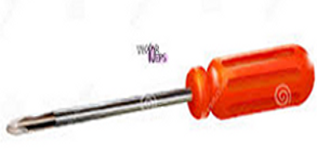screwdriver: (8, 42, 317, 148)
